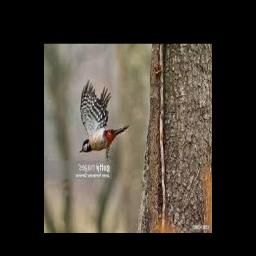Woodpecker: (79, 79, 129, 159)
